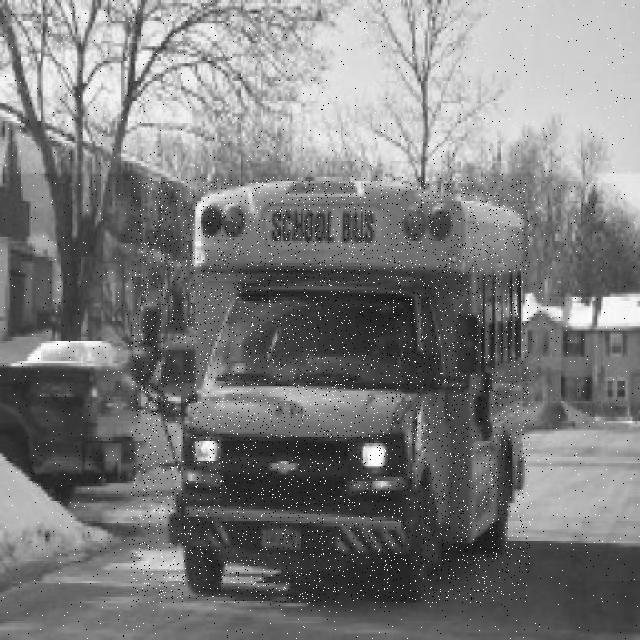Bus- Small: (131, 177, 530, 603)
